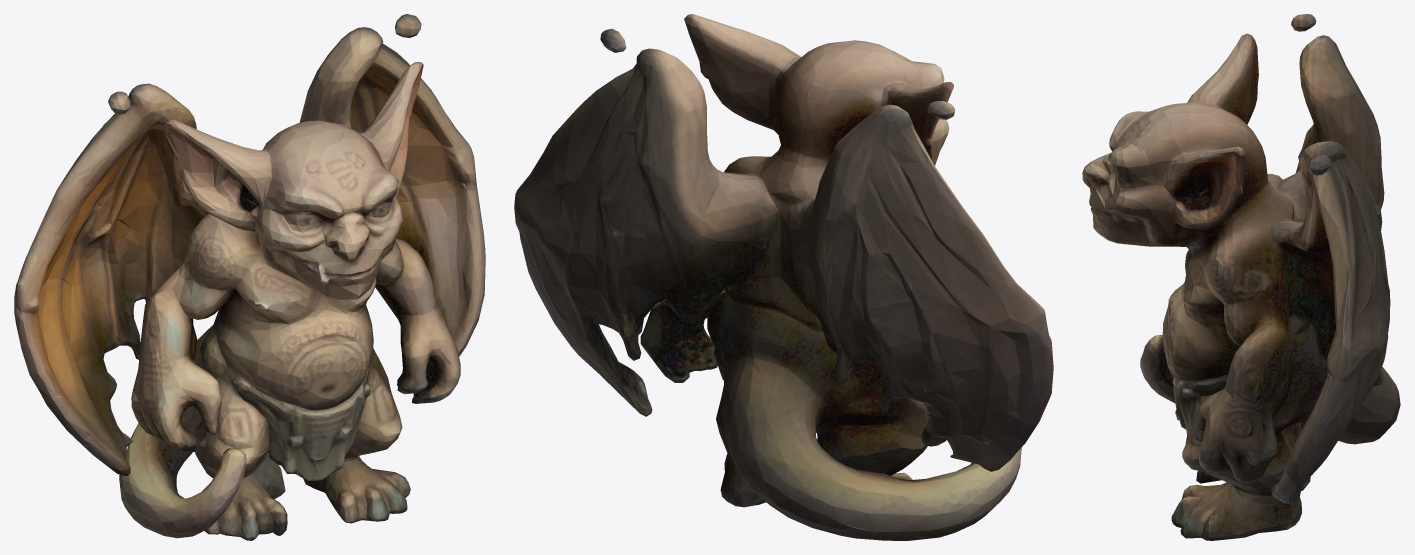
The model's file is dustwingImp.glb.
The picture shows the model from 3 angles, left to right: view 1: azimuth 30°, elevation 25°; view 2: azimuth 150°, elevation 25°; view 3: azimuth 270°, elevation 25°; orthographic projection. The views are drawn at different scales.
Visible parts, largest first — view 1: world; view 2: world; view 3: world.
Boxes of the visible parts, x1,y1,x2,y2 form: world: [14, 14, 485, 540]; world: [514, 14, 1053, 540]; world: [1082, 14, 1400, 540].
Size of the model in its own units: 0.9992 by 0.8583 by 0.5925.
Materials: 1 (1 with a texture image).
